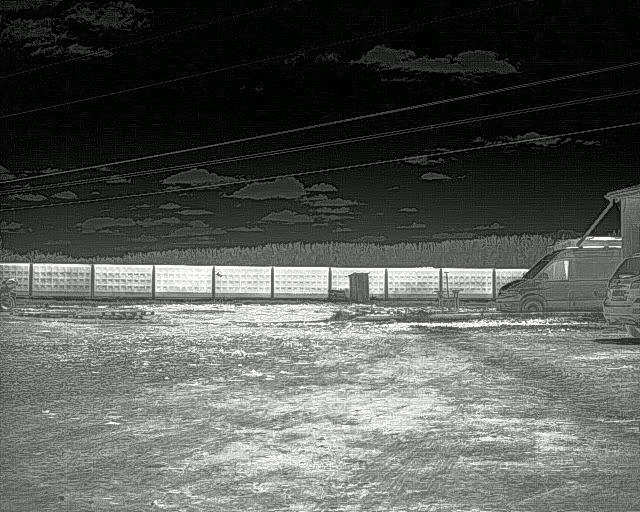ufo-thermal: (215, 271, 224, 279)
